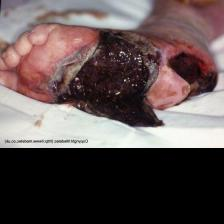Wound: (58, 27, 161, 133), (165, 50, 222, 112)
